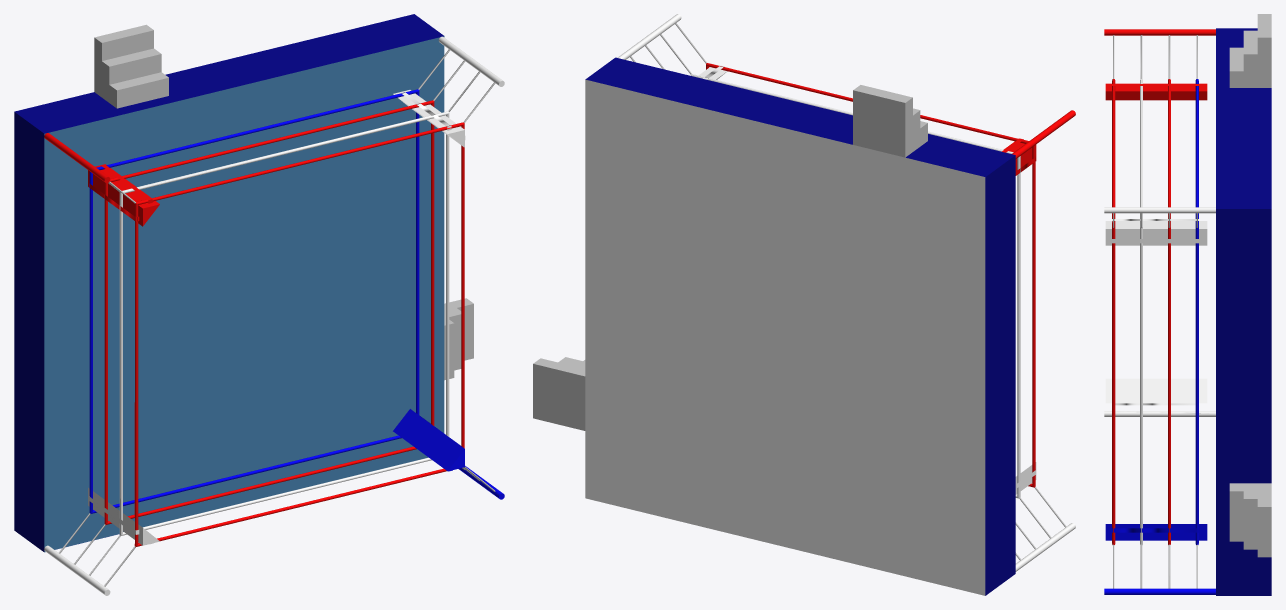
Rendered from boxing_ring.obj.
3 renders of one model, left to right at view 1: azimuth 30°, elevation 25°; view 2: azimuth 150°, elevation 25°; view 3: azimuth 270°, elevation 25°, orthographic. The views are drawn at different scales.
Visible parts, largest first — view 1: Mesh7 Model, Mesh6 Component_4_2 Model, Mesh10 Model, Mesh5 Component_4_1 Model, Mesh8 Model, Mesh9 Model, Mesh11 Model; view 2: Mesh7 Model, Mesh6 Component_4_2 Model, Mesh5 Component_4_1 Model; view 3: Mesh7 Model, Mesh5 Component_4_1 Model, Mesh6 Component_4_2 Model, Mesh11 Model, Mesh9 Model, Mesh8 Model, Mesh10 Model, Mesh2 Component_1_2 Model.
Boxes of the visible parts, bbox=[...] form: Mesh7 Model: bbox=[14, 14, 504, 595]; Mesh6 Component_4_2 Model: bbox=[94, 24, 168, 108]; Mesh10 Model: bbox=[393, 409, 464, 471]; Mesh5 Component_4_1 Model: bbox=[444, 298, 473, 380]; Mesh8 Model: bbox=[88, 164, 159, 226]; Mesh9 Model: bbox=[393, 90, 464, 147]; Mesh11 Model: bbox=[88, 487, 159, 545]; Mesh7 Model: bbox=[585, 14, 1075, 595]; Mesh6 Component_4_2 Model: bbox=[853, 85, 927, 157]; Mesh5 Component_4_1 Model: bbox=[533, 357, 585, 430]; Mesh7 Model: bbox=[1104, 28, 1271, 595]; Mesh5 Component_4_1 Model: bbox=[1229, 483, 1271, 557]; Mesh6 Component_4_2 Model: bbox=[1229, 14, 1271, 87]; Mesh11 Model: bbox=[1105, 378, 1207, 403]; Mesh9 Model: bbox=[1105, 221, 1207, 245]; Mesh8 Model: bbox=[1105, 83, 1207, 100]; Mesh10 Model: bbox=[1105, 524, 1207, 540]; Mesh2 Component_1_2 Model: bbox=[1112, 239, 1198, 243].
Size of the model in its own units: 2.75 by 2.75 by 0.9536.
